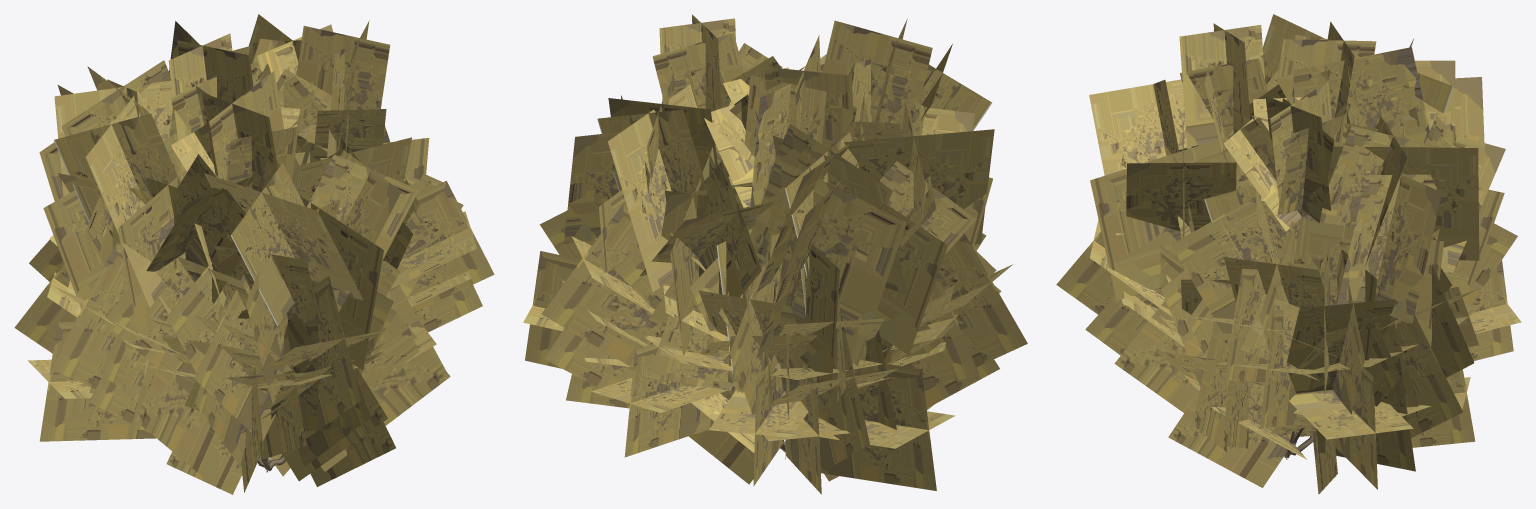
Rendered from HamamelisVirginiana.glb.
The picture shows the model from 3 angles, left to right: view 1: azimuth 30°, elevation 25°; view 2: azimuth 150°, elevation 25°; view 3: azimuth 270°, elevation 25°; orthographic projection. The views are drawn at different scales.
Visible parts, largest first — view 1: Witch_Hazel__Realistic_LOD3; view 2: Witch_Hazel__Realistic_LOD3; view 3: Witch_Hazel__Realistic_LOD3.
Boxes of the visible parts, bbox=[...] form: Witch_Hazel__Realistic_LOD3: bbox=[14, 14, 494, 494]; Witch_Hazel__Realistic_LOD3: bbox=[523, 14, 1027, 494]; Witch_Hazel__Realistic_LOD3: bbox=[1056, 14, 1521, 494].
Size of the model in its own units: 4.81 by 4.52 by 4.42.
1 material, 1 textured.
